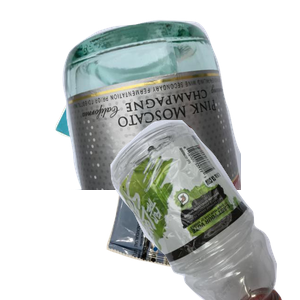glass: (60, 17, 300, 197)
paper: (52, 49, 209, 198)
plastic: (73, 120, 300, 300)
trash: (104, 152, 280, 300)
